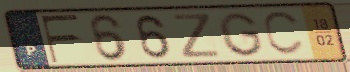6: (88, 12, 131, 64), (133, 13, 173, 61)
C: (261, 9, 306, 58)
F: (38, 12, 82, 65)
G: (216, 11, 266, 59)
Z: (170, 12, 223, 60)
